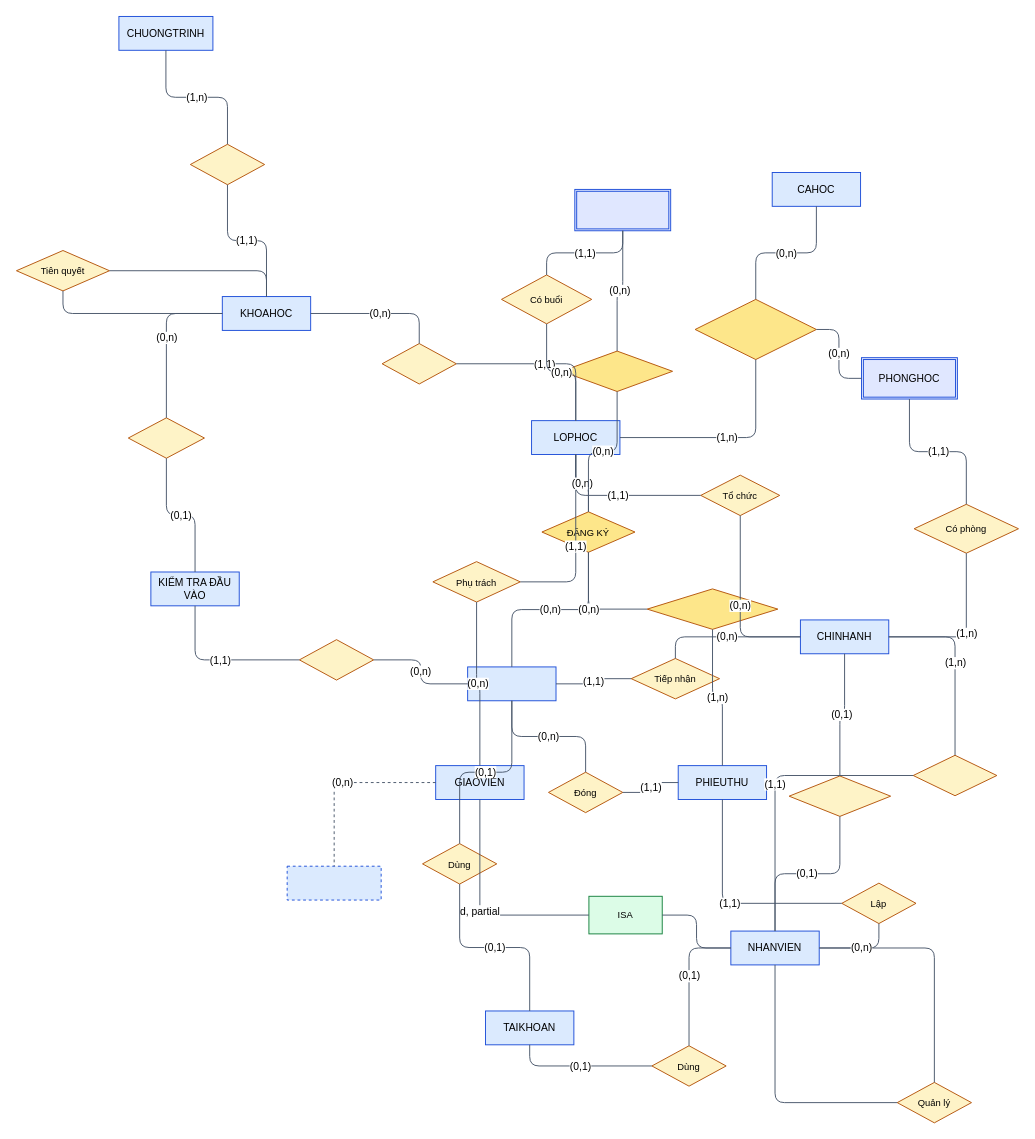
This 1035x1139 diagram has some shape labels left out. The centre of each missing label's shape, as x and y in pixels:
"BUOIHOC" goes at point 622,209.
"CHỨNG CHỈ GV (đa trị)" goes at point 333,882.
"CT PHIẾU THU" goes at point 712,608.
"Dự" goes at point 336,659.
"Gồm" goes at point 227,164.
"HOCVIEN" goes at point 511,683.
"Làm việc" goes at point 954,775.
"LỊCH HỌC (3 ngôi)" goes at point 755,329.
"Mở" goes at point 418,363.
"Quản lý CN" goes at point 839,795.
"ĐIỂM DANH" goes at point 617,371.
"Đề xuất" goes at point 165,437.
